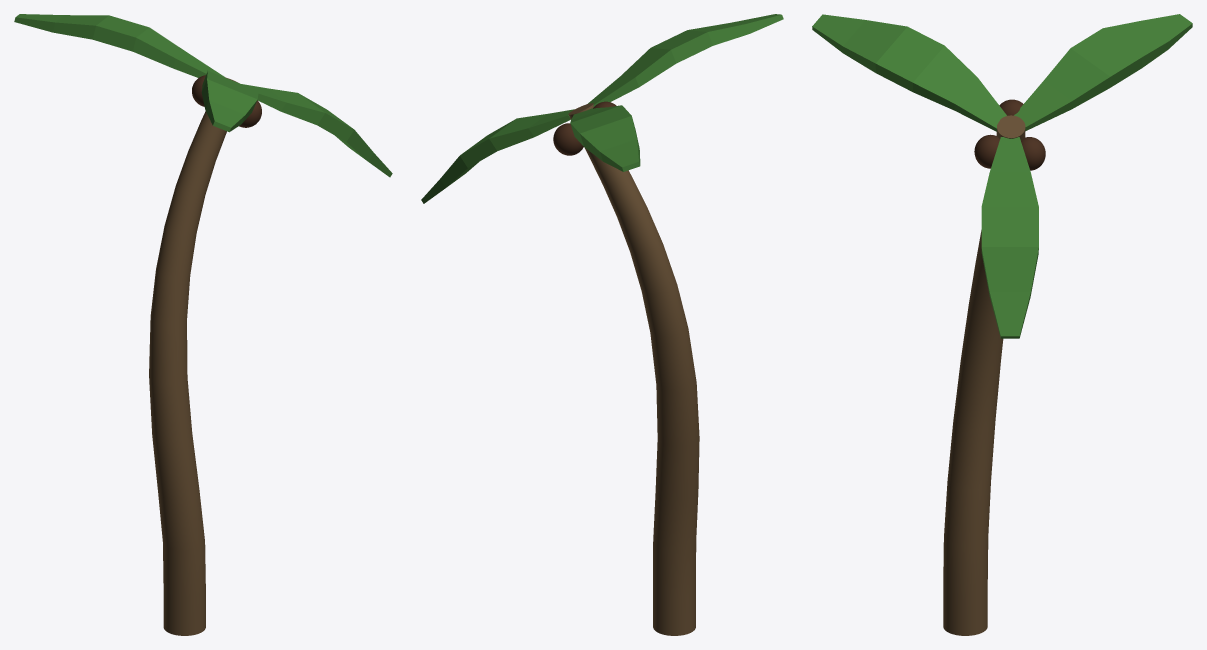
The model's file is palm_tree.fbx.
3 renders of one model, left to right at view 1: azimuth 30°, elevation 25°; view 2: azimuth 150°, elevation 25°; view 3: azimuth 270°, elevation 25°, orthographic. The views are drawn at different scales.
Parts seen in each view (by area): view 1: palm_tree; view 2: palm_tree; view 3: palm_tree.
Boxes of the visible parts, x1=… form: palm_tree: x1=14, y1=14, x2=392, y2=635; palm_tree: x1=421, y1=14, x2=783, y2=635; palm_tree: x1=812, y1=14, x2=1192, y2=635.
Size of the model in its own units: 464 by 433 by 803.
